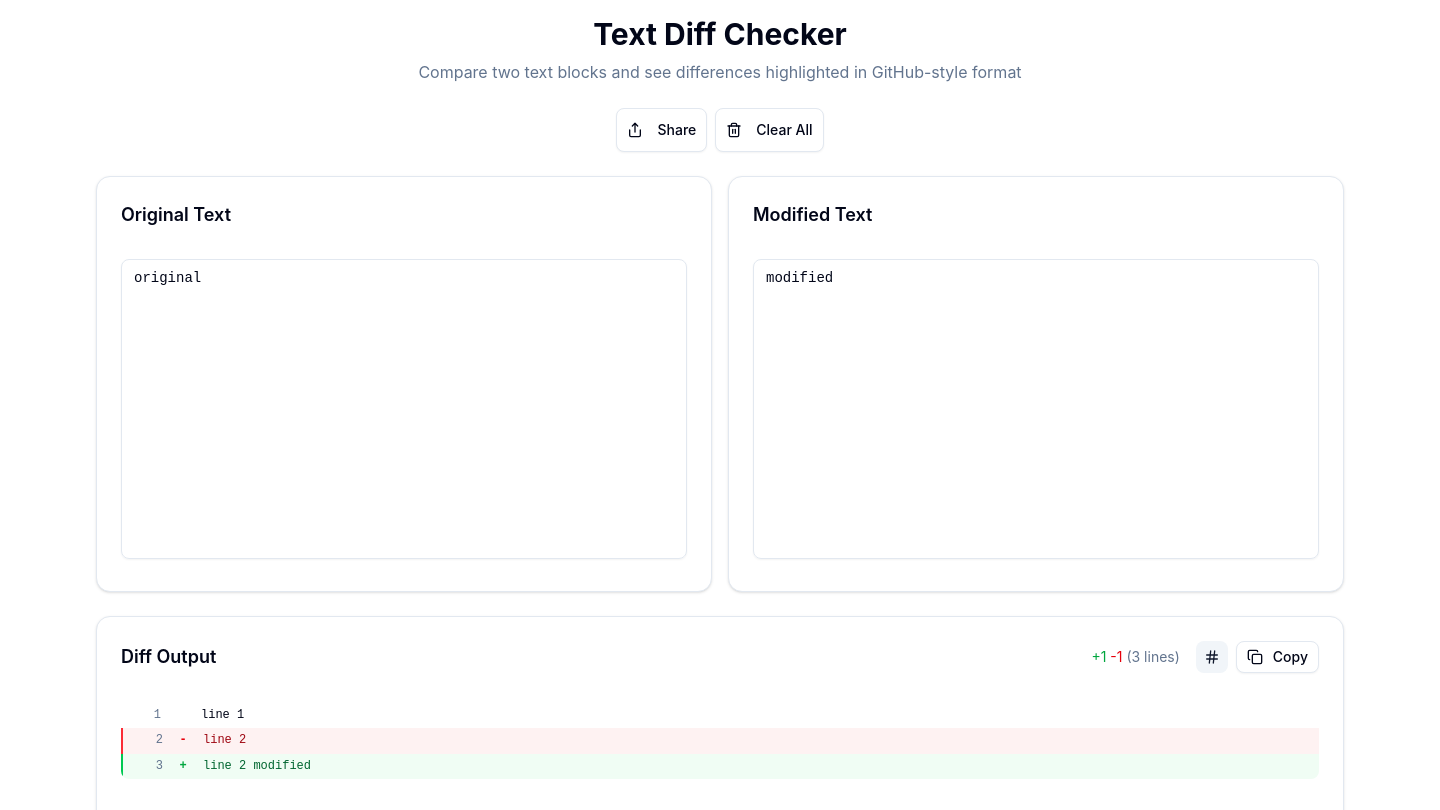
DiffChecker State Persistence › should handle share functionality with current state
What coordinates should you click on to do the following:
click the button "Share"
I would click on:
 (662, 130)
Its box is [616,108,707,152].
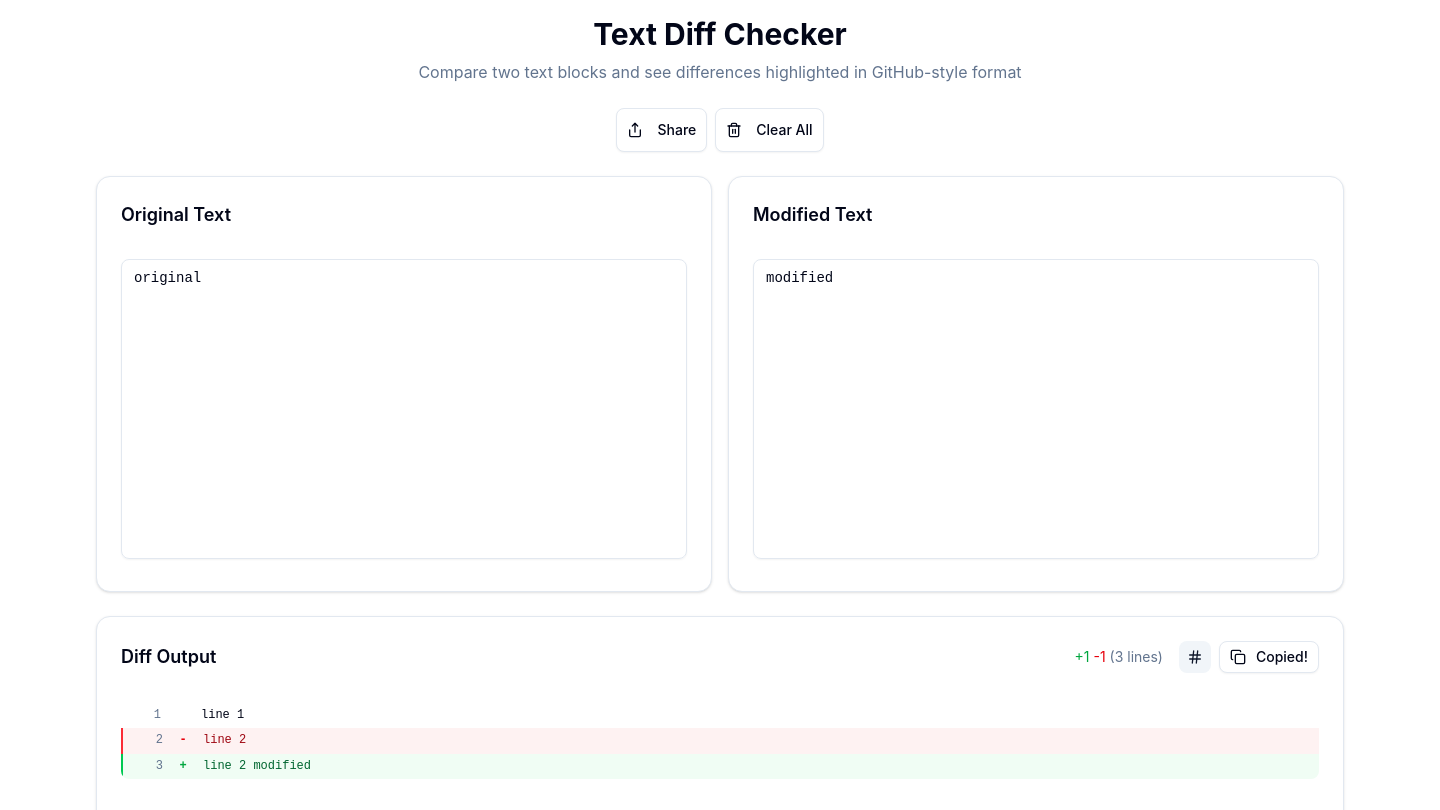
Expected: the button "Copied!" is shown, [1219,641,1319,673]
